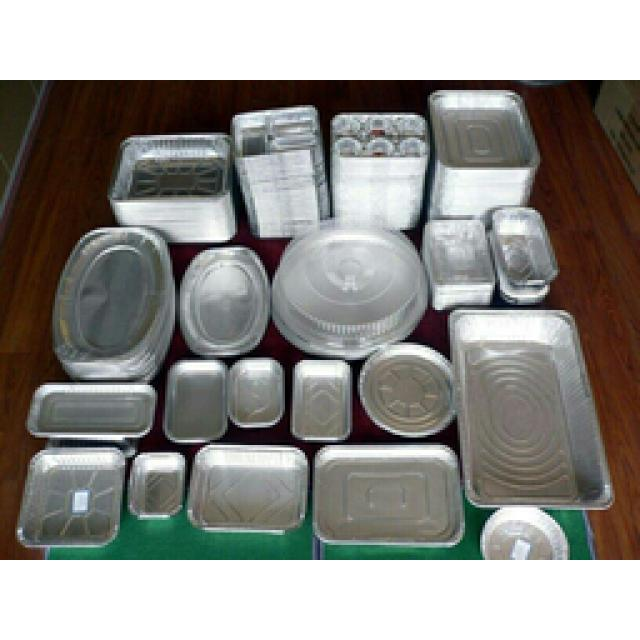alumunium: (18, 90, 610, 555), (162, 360, 305, 528), (315, 445, 460, 545)
